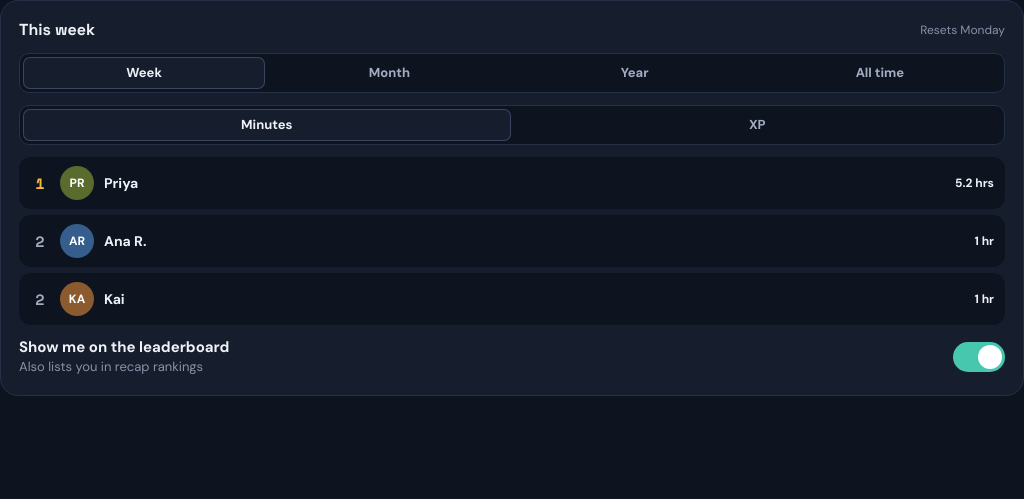
Test: WeeklyLeaderboard › shows a failed switch and retries the metric you picked
Check: the list item with aria-label "Rank 1, Priya, 5.2 hrs" is shown, box 19,157 -> 1005,209
Click the button "XP". click: [757, 125]
box: 514,109 -> 1001,141
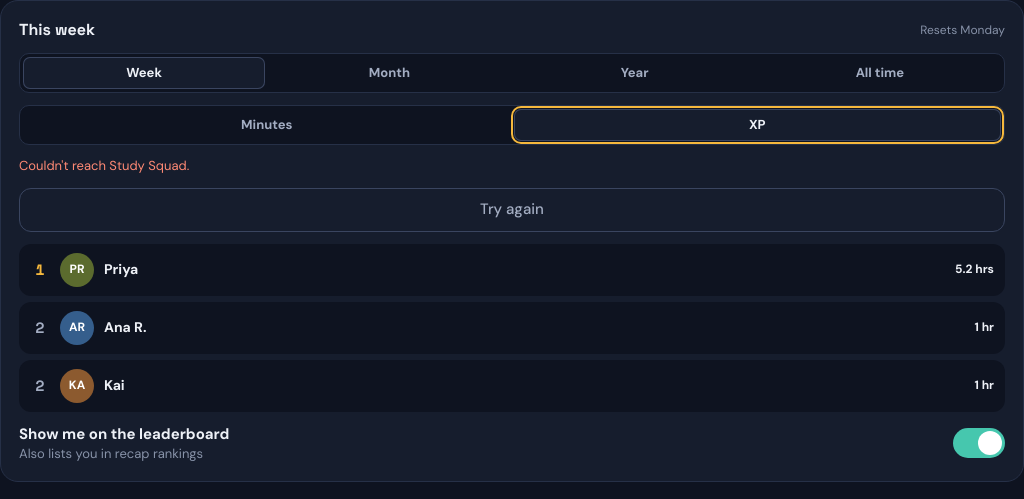
Check: the message shows "Couldn't reach", box 19,157 -> 189,174
Click the button "Try again". click: [512, 210]
box: 19,188 -> 1005,232
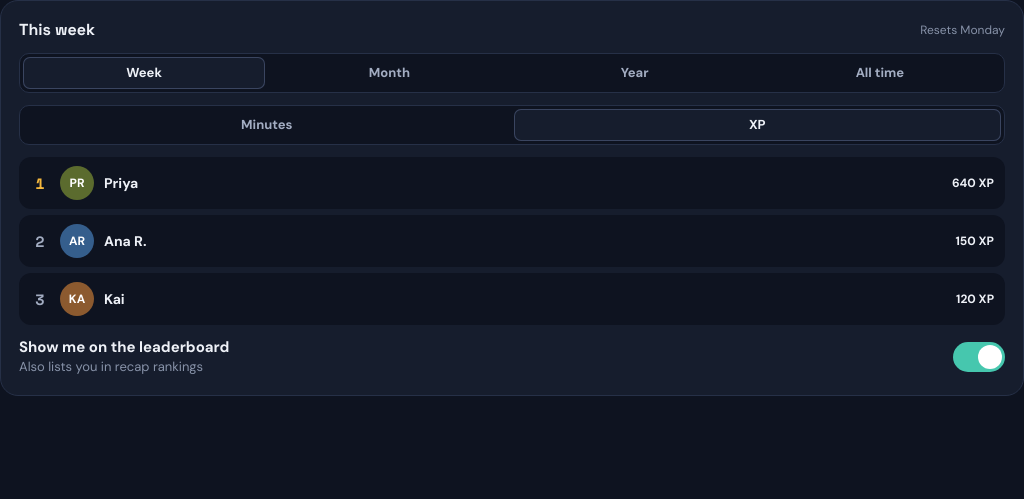
Check: the message "Couldn't reach Study Squad." is gone
